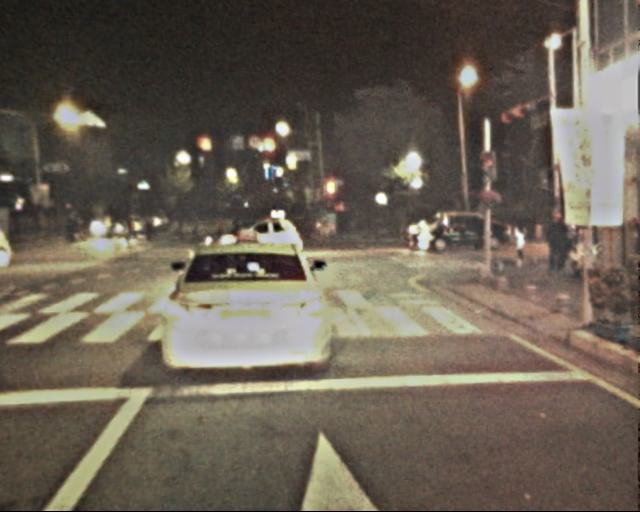person: (543, 208, 570, 274), (510, 219, 530, 268), (66, 202, 86, 241), (166, 207, 180, 242), (184, 207, 198, 242), (141, 209, 155, 243), (210, 210, 223, 241), (226, 213, 237, 241)
